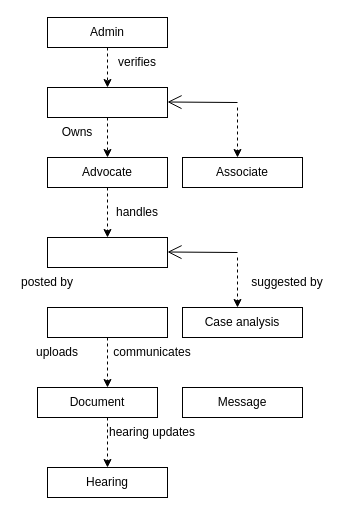
Image size: 344x515. Some labels were removed from this diagram. The shapes that lost their labels are listed below. From the top down, each one's centre as x and y in pixels, then its label:
At [107,102]: "Law Firm".
At [107,252]: "Case".
At [107,322]: "Client".
